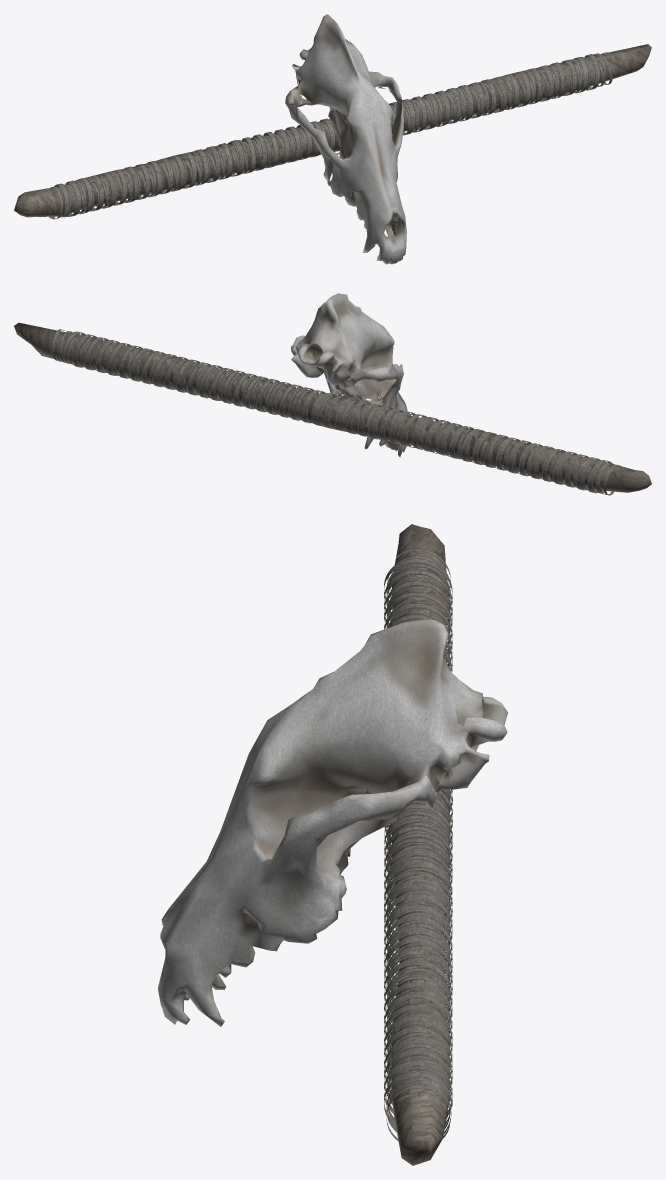
File: palka_6.glb
3 views of the same model, one above another, from view 1: azimuth 30°, elevation 25°; view 2: azimuth 150°, elevation 25°; view 3: azimuth 270°, elevation 25° (orthographic). The views are drawn at different scales.
Visible parts, largest first — view 1: palka_6; view 2: palka_6; view 3: palka_6.
Boxes of the visible parts, x1,y1,x2,y2 form: palka_6: (14,14,651,264); palka_6: (14,293,651,495); palka_6: (158,524,507,1165).
Bounding box in the file's own units: 84.58 × 25.53 × 20.26.
3 materials, 3 textured.
